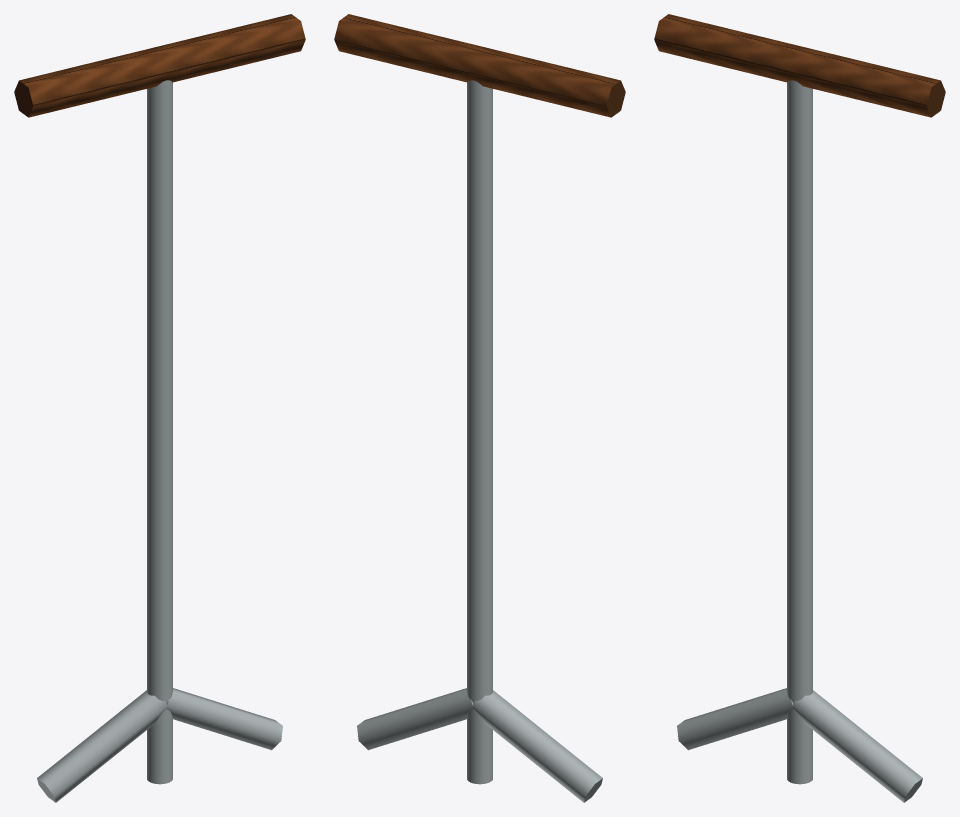
File: survival-greenhouse-and-irrigation-compost-aerator-91b48227__21340.glb
3 renders of one model, left to right at view 1: azimuth 30°, elevation 25°; view 2: azimuth 150°, elevation 25°; view 3: azimuth 330°, elevation 25°, orthographic.
Parts seen in each view (by area): view 1: compost-aerator; view 2: compost-aerator; view 3: compost-aerator.
Part boxes in pixels (x1,y1,x2,y2): compost-aerator: (14, 14, 305, 802); compost-aerator: (334, 14, 625, 802); compost-aerator: (654, 14, 945, 802).
Bounding box in the file's own units: 0.36 × 0.9191 × 0.044.
Materials: 2 (1 with a texture image).
